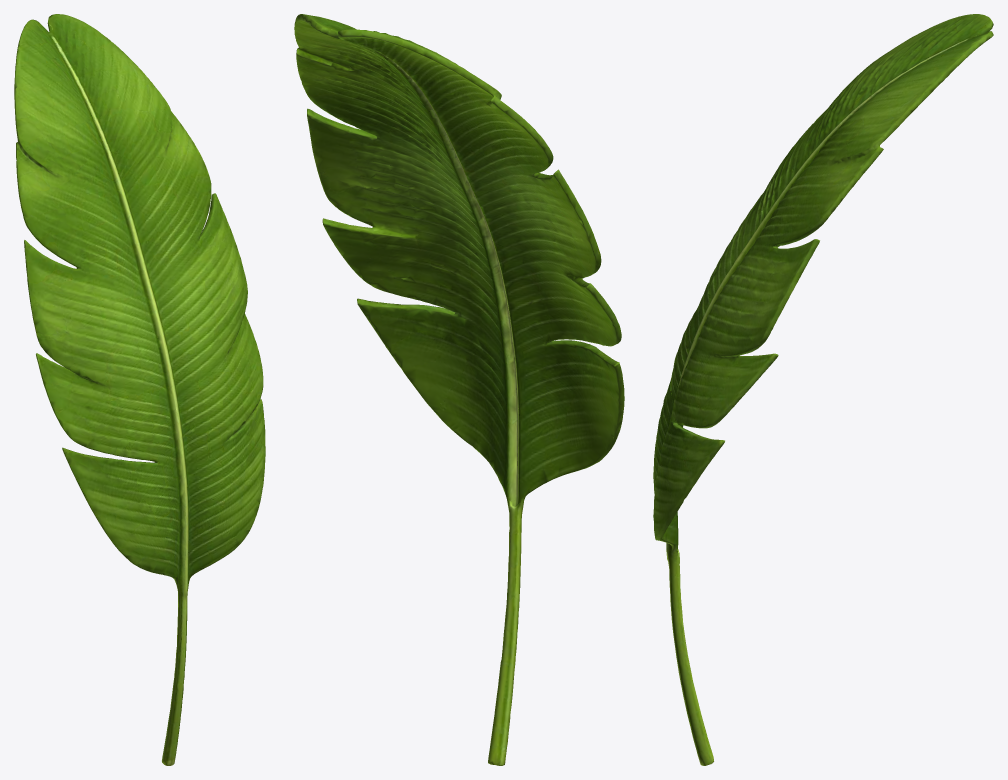
3 views of the same model, side by side, from view 1: azimuth 30°, elevation 25°; view 2: azimuth 150°, elevation 25°; view 3: azimuth 270°, elevation 25° (orthographic). The views are drawn at different scales.
Bounding box in the file's own units: 0.6387 × 1.9 × 0.7927.
Materials: 1 (1 with a texture image).
